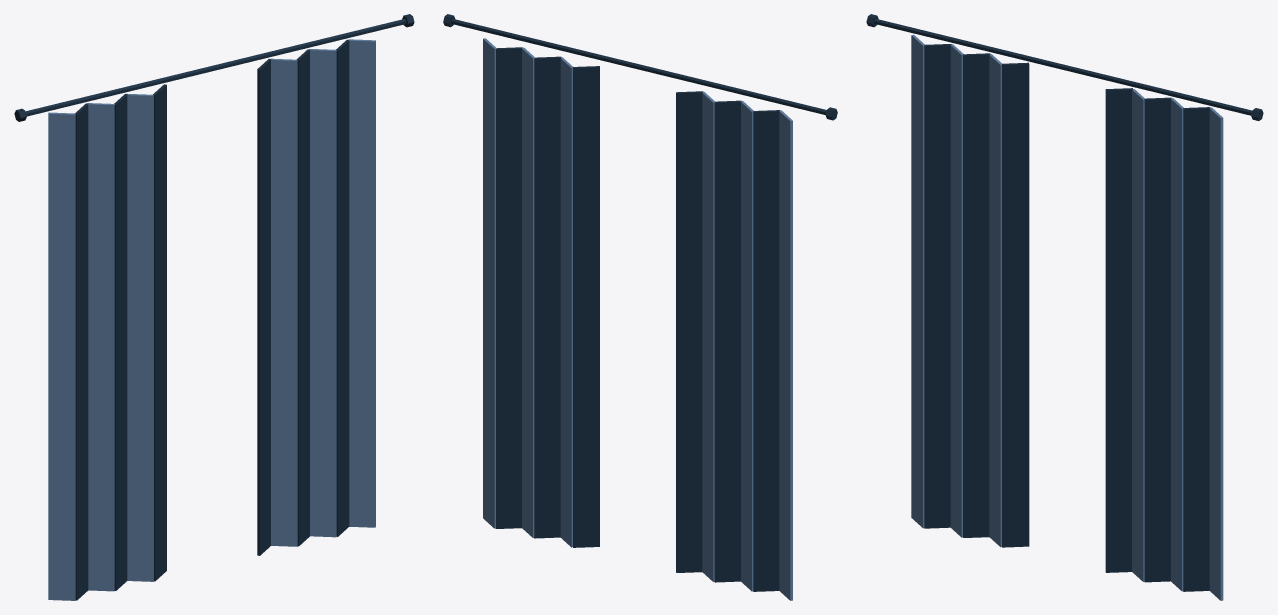
File: Curtain.fbx
The picture shows the model from 3 angles, left to right: view 1: azimuth 30°, elevation 25°; view 2: azimuth 150°, elevation 25°; view 3: azimuth 330°, elevation 25°; orthographic projection.
Visible parts, largest first — view 1: Curtain; view 2: Curtain; view 3: Curtain.
Part boxes in pixels (x1,y1,x2,y2): Curtain: (14,14,414,600); Curtain: (443,14,837,600); Curtain: (866,14,1263,600).
Size of the model in its own units: 1.85 by 2.25 by 0.082.
1 material, 1 textured.
